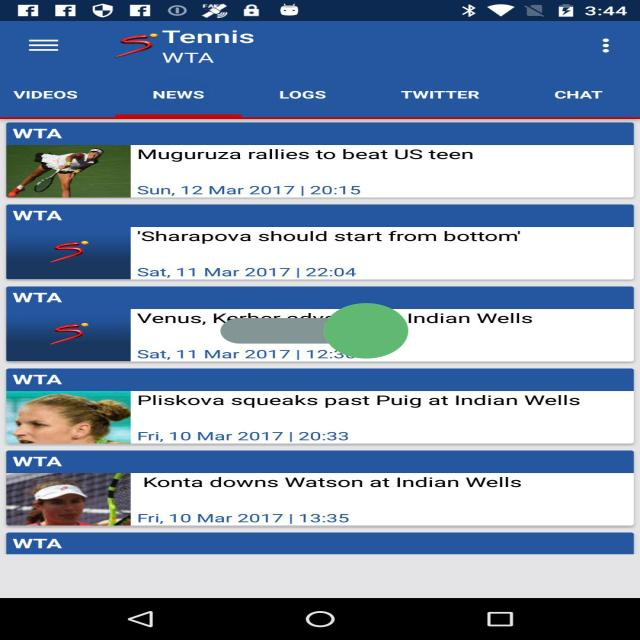social proof: (220, 269, 408, 393)
